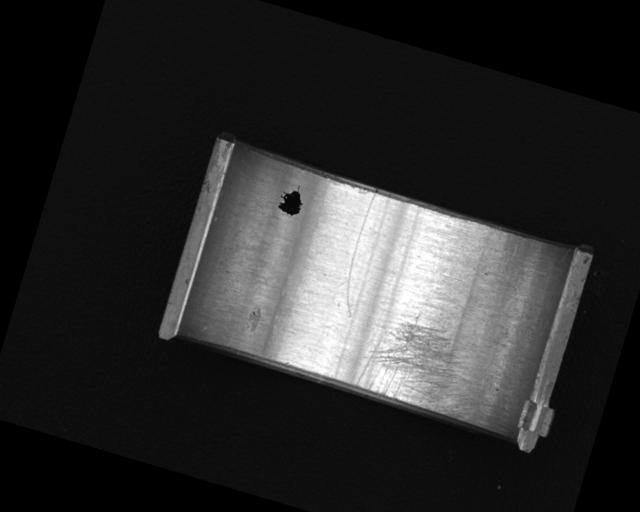blot: (275, 180, 308, 219)
bruise: (243, 305, 265, 334)
nick: (334, 189, 388, 319)
scratch: (351, 300, 492, 425)
